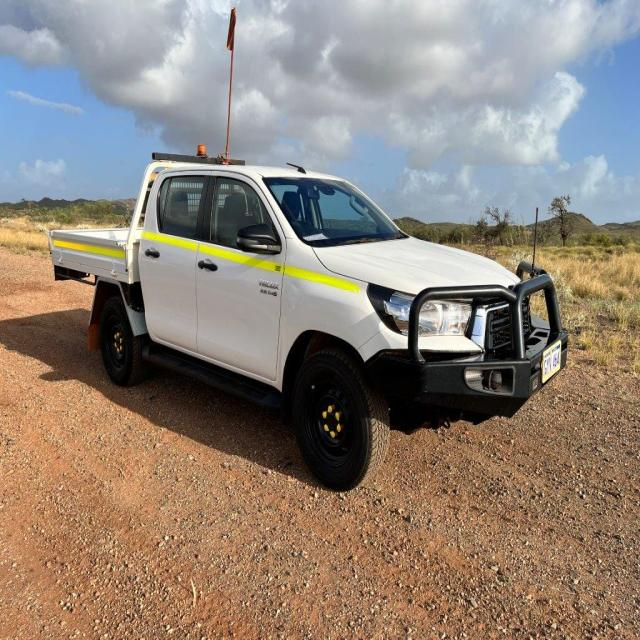light_vehicle: (44, 134, 594, 505)
